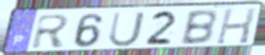2: (144, 9, 180, 47)
6: (72, 12, 106, 49)
B: (178, 9, 219, 46)
H: (214, 7, 258, 45)
R: (30, 14, 72, 51)
U: (106, 10, 147, 48)
